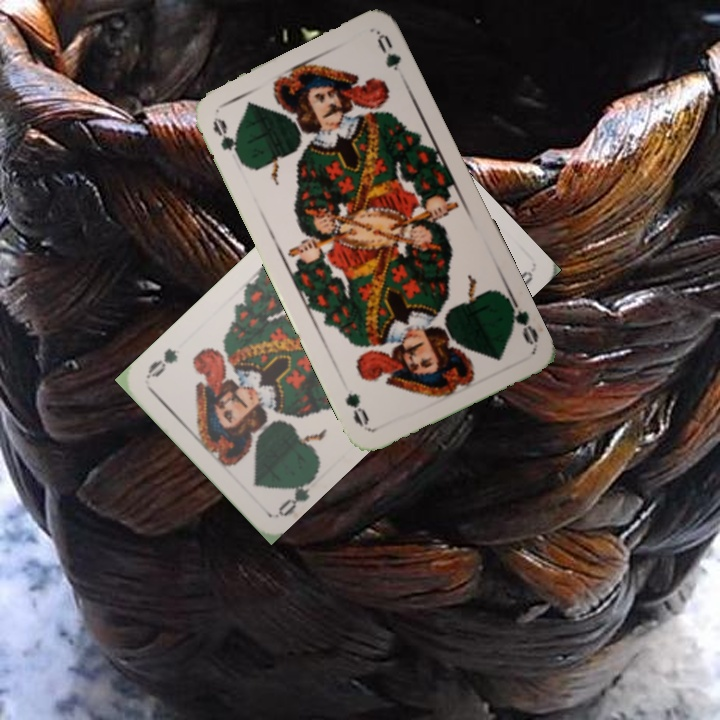GO: (274, 470, 320, 519), (501, 291, 541, 347), (208, 113, 245, 165)
